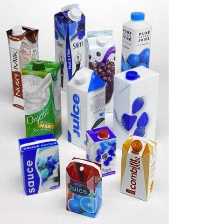carton: (110, 65, 160, 153), (64, 64, 107, 151), (19, 58, 63, 142), (53, 0, 88, 96), (115, 133, 162, 203), (13, 131, 63, 196), (4, 22, 40, 111), (83, 25, 117, 113), (63, 154, 103, 218), (120, 8, 156, 75), (82, 124, 118, 179)
